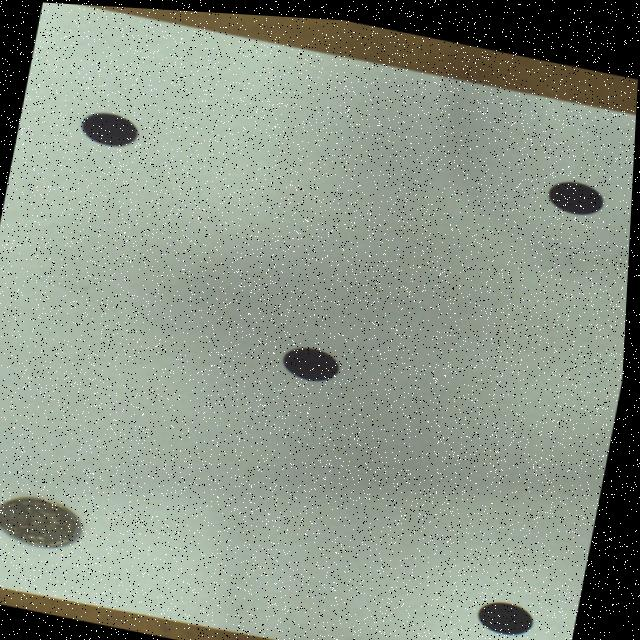space: (285, 343, 342, 378), (81, 112, 139, 145), (549, 174, 605, 208), (484, 595, 538, 628)
tail5bath: (0, 496, 86, 547)
